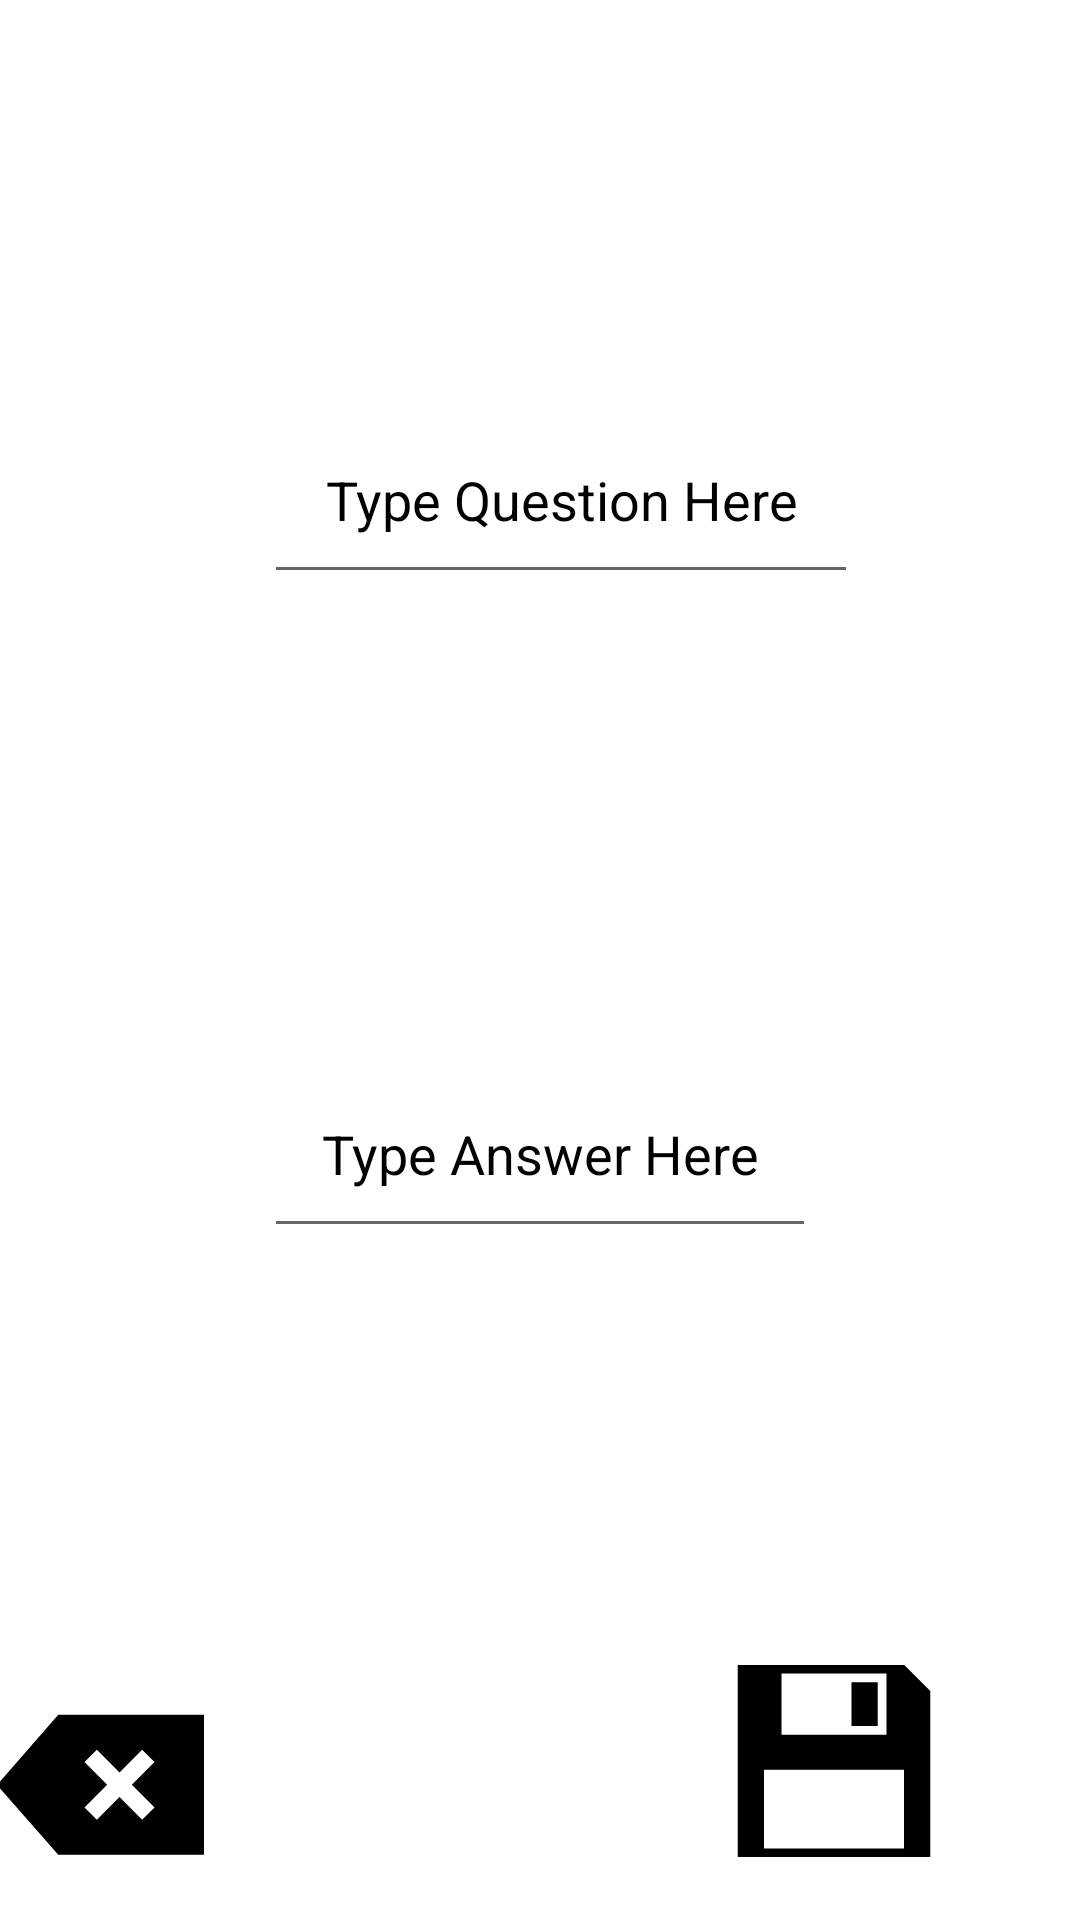

Screen size 1080px x 1920px. Icon name, then its center in pixels as (x,y):
save: (834,1761)
